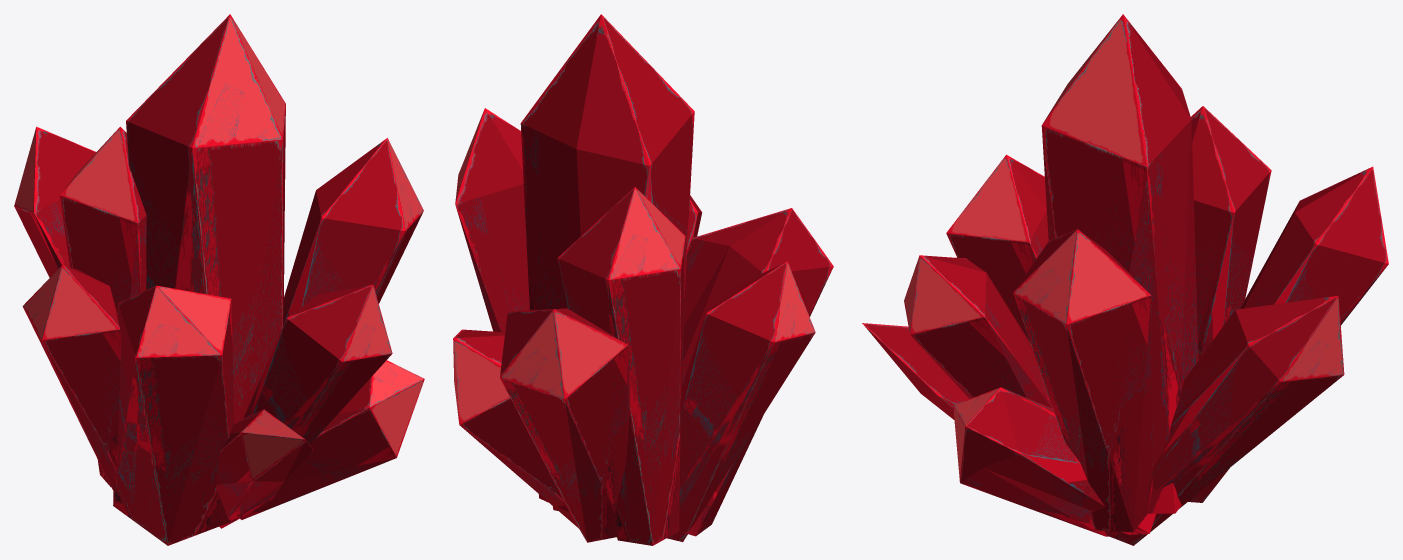
Rendered from Crystal Big.fbx.
3 renders of one model, left to right at view 1: azimuth 30°, elevation 25°; view 2: azimuth 150°, elevation 25°; view 3: azimuth 270°, elevation 25°, orthographic. The views are drawn at different scales.
Visible parts, largest first — view 1: Icosphere.014_Icosphere.018, Icosphere.017_Icosphere.021, Icosphere.015_Icosphere.019, Icosphere.016_Icosphere.020, Icosphere.024_Icosphere.028, Icosphere.022_Icosphere.026, Icosphere.018_Icosphere.022, Icosphere.019_Icosphere.023, Icosphere.021_Icosphere.025; view 2: Icosphere.014_Icosphere.018, Icosphere.022_Icosphere.026, Icosphere.021_Icosphere.025, Icosphere.024_Icosphere.028, Icosphere.015_Icosphere.019, Icosphere.017_Icosphere.021, Icosphere.023_Icosphere.027, Icosphere.016_Icosphere.020; view 3: Icosphere.014_Icosphere.018, Icosphere.015_Icosphere.019, Icosphere.023_Icosphere.027, Icosphere.018_Icosphere.022, Icosphere.016_Icosphere.020, Icosphere.021_Icosphere.025, Icosphere.022_Icosphere.026, Icosphere.017_Icosphere.021, Icosphere.019_Icosphere.023.
Boxes of the visible parts, x1=… form: Icosphere.014_Icosphere.018: x1=126, y1=14, x2=285, y2=422; Icosphere.017_Icosphere.021: x1=113, y1=285, x2=236, y2=545; Icosphere.015_Icosphere.019: x1=283, y1=138, x2=423, y2=325; Icosphere.016_Icosphere.020: x1=244, y1=284, x2=392, y2=444; Icosphere.024_Icosphere.028: x1=22, y1=265, x2=121, y2=490; Icosphere.022_Icosphere.026: x1=59, y1=126, x2=146, y2=486; Icosphere.018_Icosphere.022: x1=240, y1=360, x2=424, y2=519; Icosphere.019_Icosphere.023: x1=216, y1=409, x2=313, y2=528; Icosphere.021_Icosphere.025: x1=14, y1=126, x2=95, y2=277; Icosphere.014_Icosphere.018: x1=520, y1=14, x2=694, y2=512; Icosphere.022_Icosphere.026: x1=557, y1=187, x2=685, y2=545; Icosphere.021_Icosphere.025: x1=500, y1=308, x2=629, y2=542; Icosphere.024_Icosphere.028: x1=667, y1=261, x2=815, y2=541; Icosphere.015_Icosphere.019: x1=455, y1=108, x2=529, y2=332; Icosphere.017_Icosphere.021: x1=682, y1=208, x2=833, y2=536; Icosphere.023_Icosphere.027: x1=453, y1=329, x2=578, y2=528; Icosphere.016_Icosphere.020: x1=687, y1=195, x2=702, y2=249; Icosphere.014_Icosphere.018: x1=1041, y1=14, x2=1198, y2=513; Icosphere.015_Icosphere.019: x1=1013, y1=229, x2=1152, y2=532; Icosphere.023_Icosphere.027: x1=1104, y1=295, x2=1344, y2=545; Icosphere.018_Icosphere.022: x1=953, y1=387, x2=1156, y2=536; Icosphere.016_Icosphere.020: x1=904, y1=255, x2=1052, y2=408; Icosphere.021_Icosphere.025: x1=1188, y1=166, x2=1388, y2=502; Icosphere.022_Icosphere.026: x1=1191, y1=106, x2=1271, y2=359; Icosphere.017_Icosphere.021: x1=946, y1=154, x2=1048, y2=342; Icosphere.019_Icosphere.023: x1=862, y1=323, x2=1094, y2=529.
Size of the model in its own units: 329 by 434 by 395.
